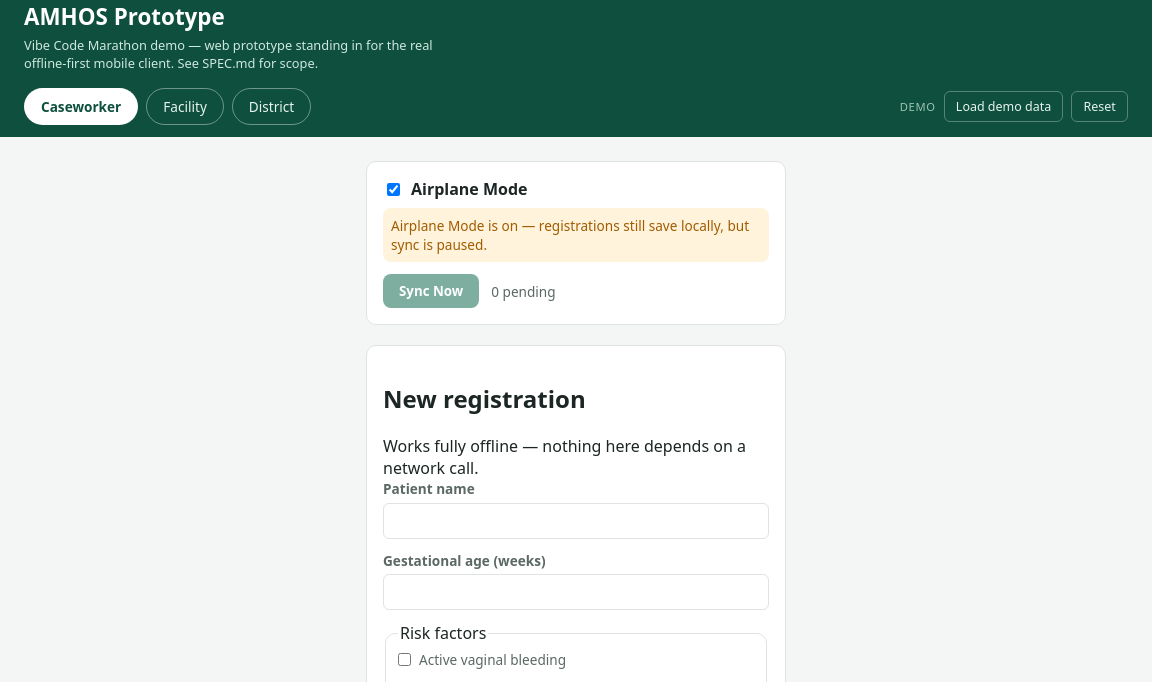
Test: App (full golden path via the composed UI) › preserves store state across a role switch
This screenshot has width=1152, height=682.
Type "Chidinma" into the field labelled "Patient name".
click(576, 521); type("Chidinma")  # box [383,503,769,539]
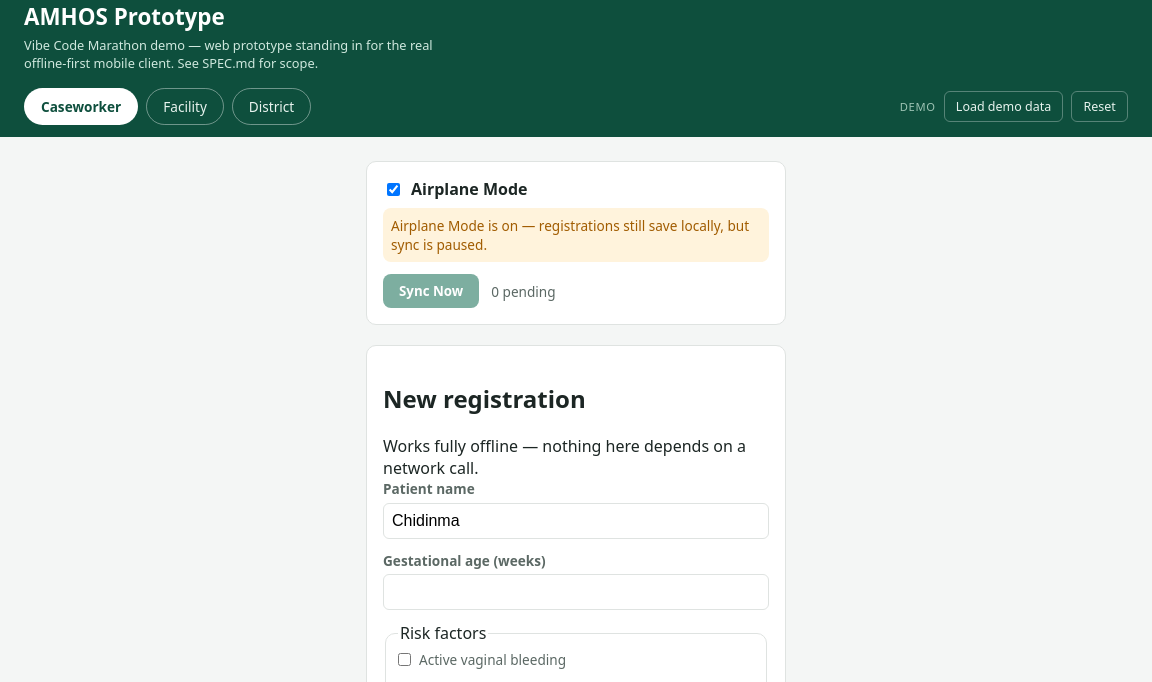
Type "18" into the number field labelled "Gestational age (weeks)".
click(576, 592); type("18")  # box [383,574,769,610]
(page scrolled)
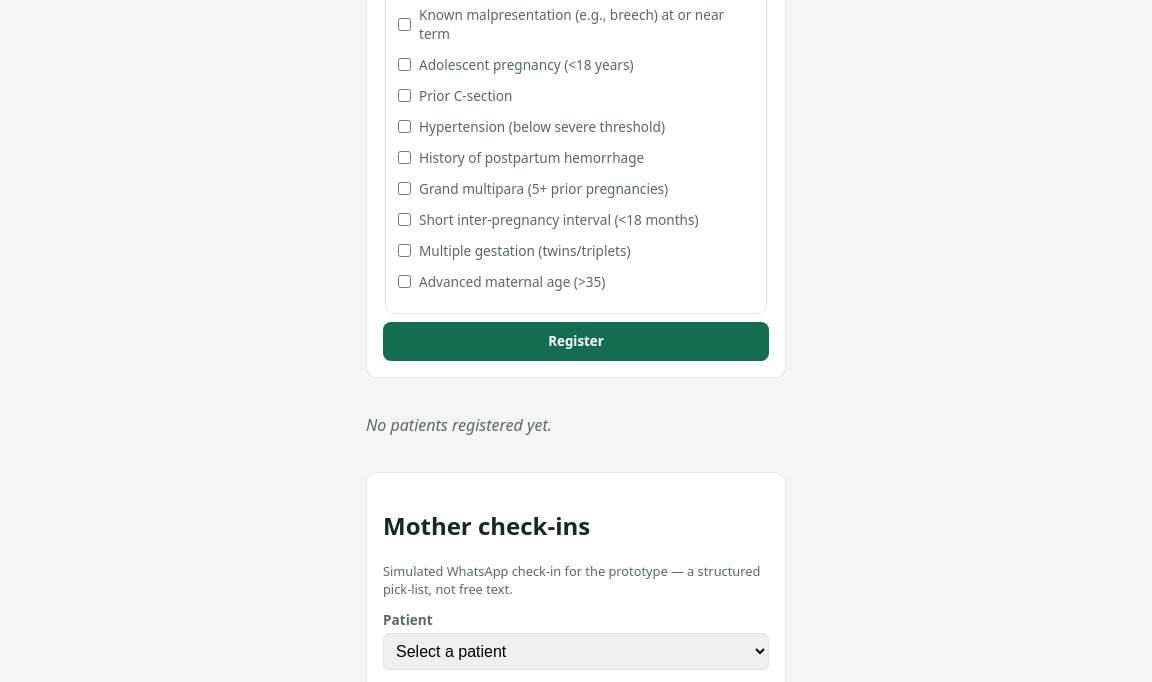
Click the button "Register".
click(576, 341)  # box [383,322,769,361]
(page scrolled)
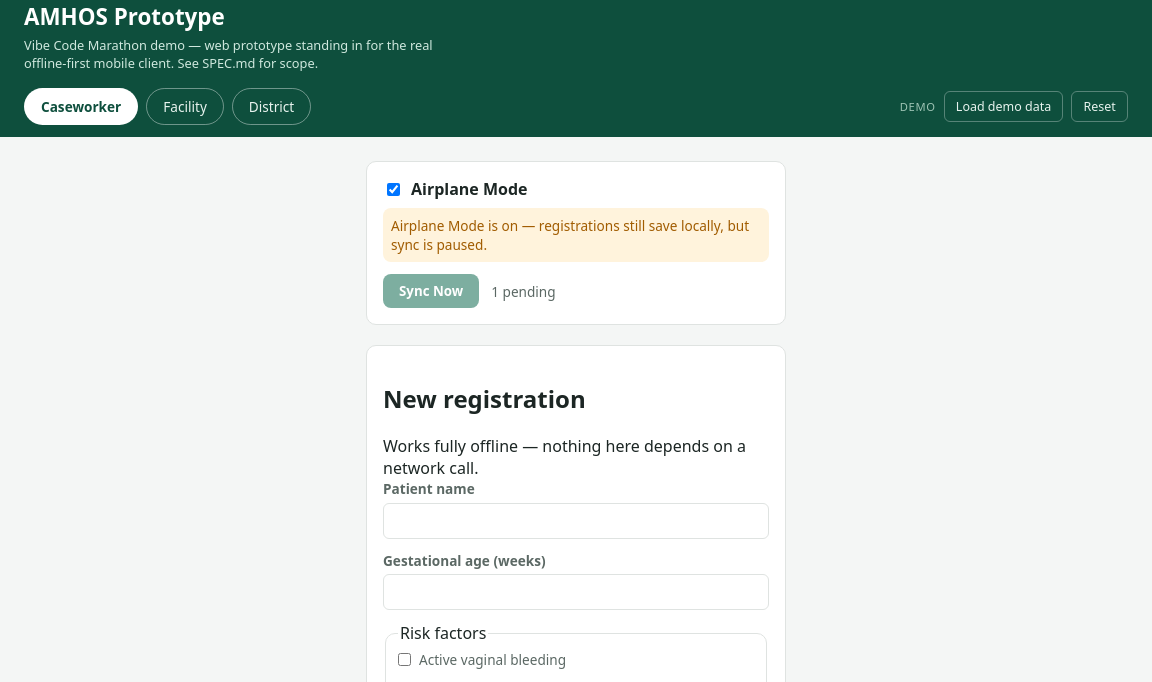
Click the tab "Facility".
click(185, 106)  # box [146,88,224,125]
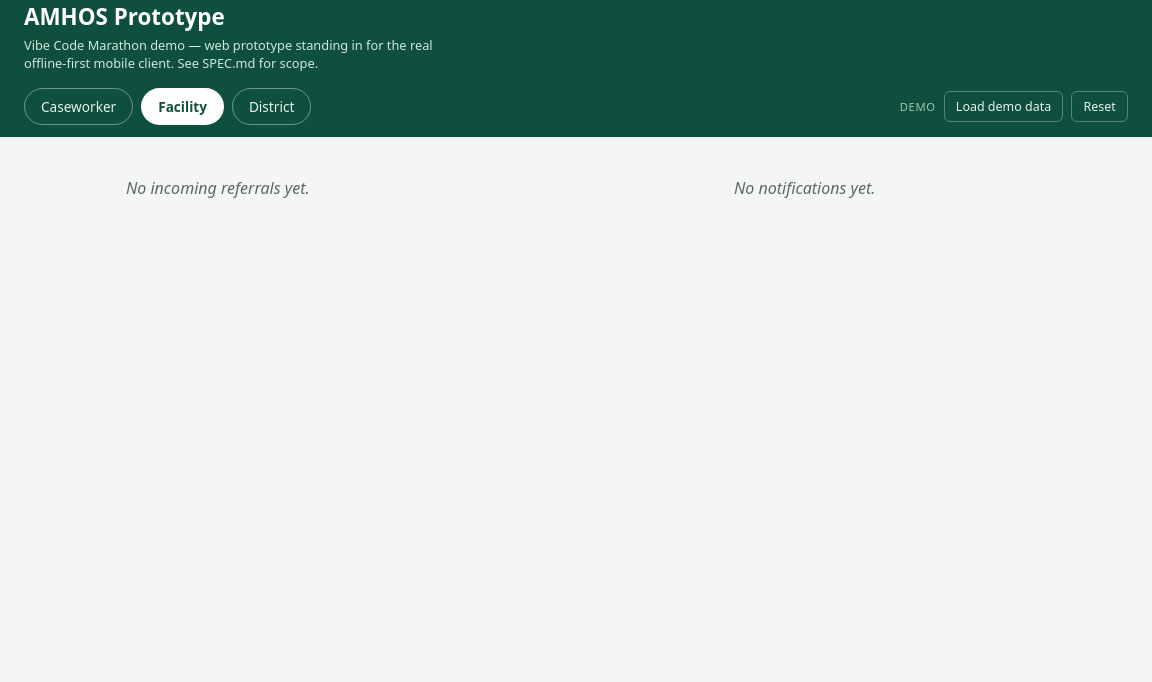
Click the tab "Caseworker".
click(79, 106)  # box [24,88,133,125]
(page scrolled)
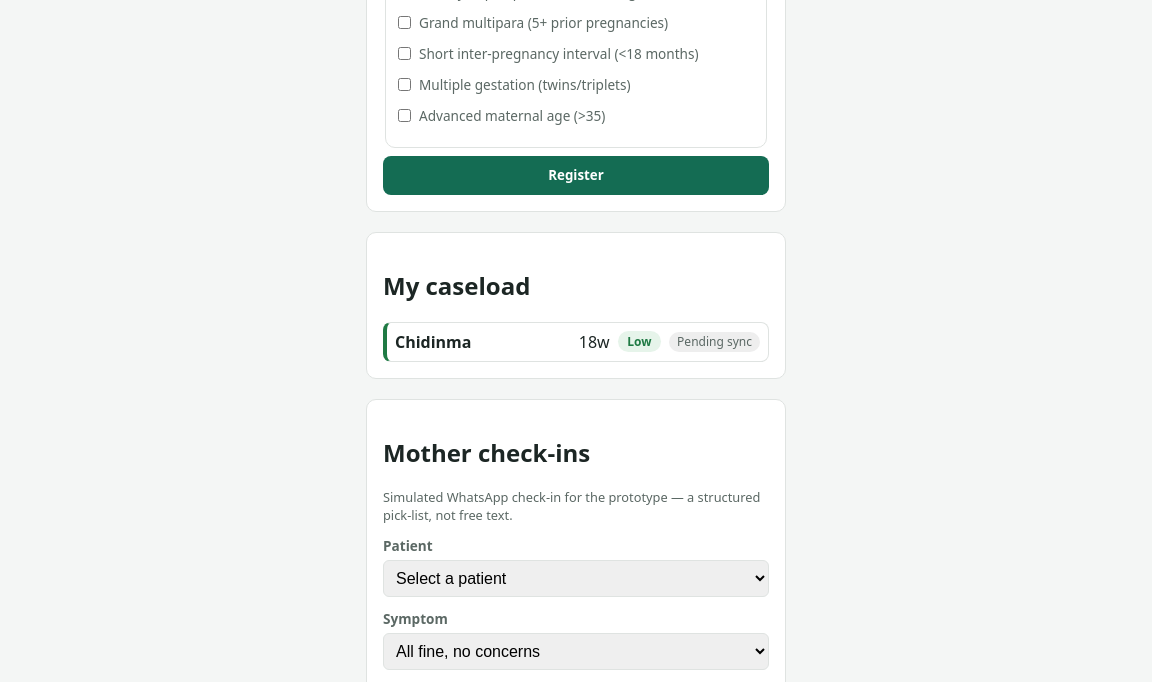
Expected: the text "Chidinma" is shown, [395,331,472,353]
